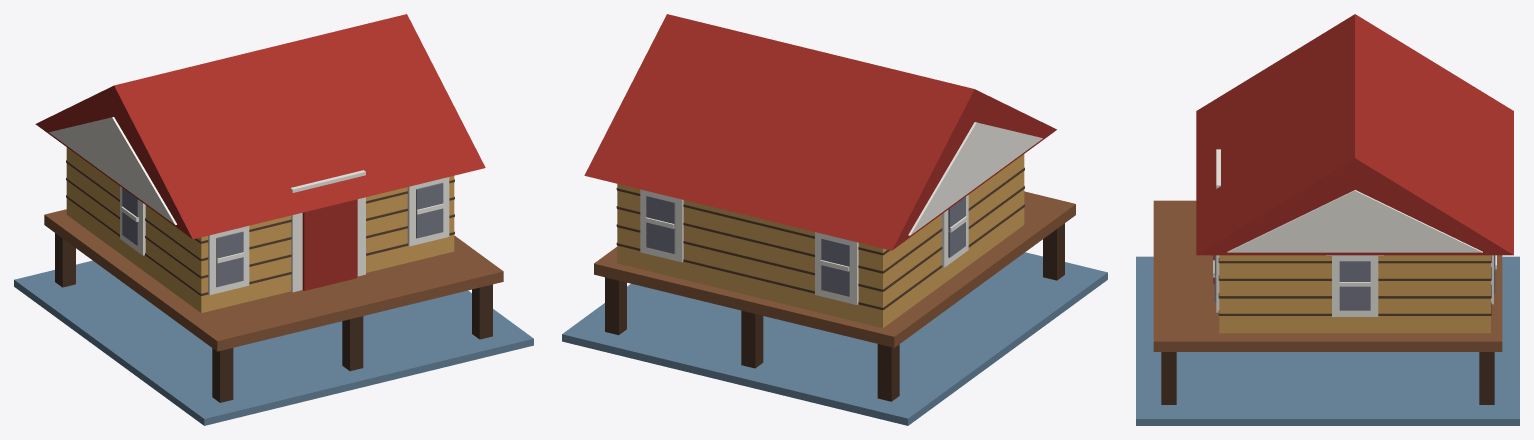
File: house-1x1-1f-palafito-a.glb
The picture shows the model from 3 angles, left to right: view 1: azimuth 30°, elevation 25°; view 2: azimuth 150°, elevation 25°; view 3: azimuth 270°, elevation 25°; orthographic projection. The views are drawn at different scales.
Parts seen in each view (by area): view 1: house-1x1-1f-palafito-a; view 2: house-1x1-1f-palafito-a; view 3: house-1x1-1f-palafito-a.
Part boxes in pixels (<box>): house-1x1-1f-palafito-a: <box>14,14,533,425</box>; house-1x1-1f-palafito-a: <box>562,14,1107,425</box>; house-1x1-1f-palafito-a: <box>1136,14,1519,425</box>.
Bounding box in the file's own units: 0.99 × 0.7365 × 0.99.
1 material, 1 textured.
